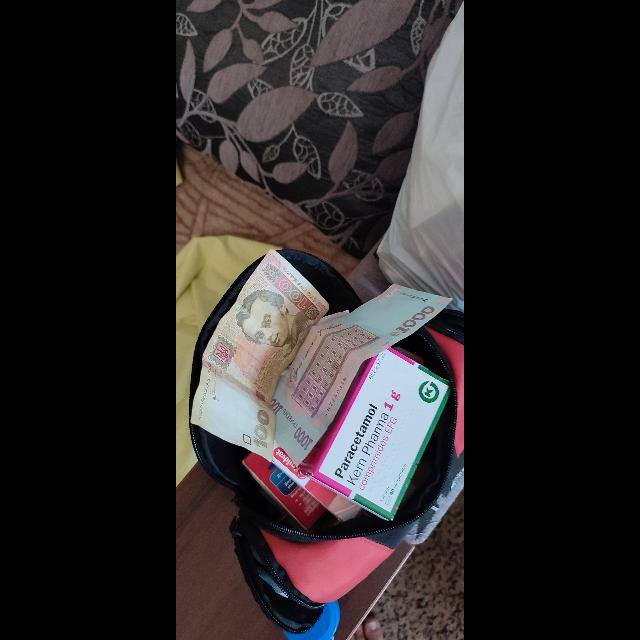1000uah: (275, 284, 450, 463)
100uah: (189, 249, 331, 461)
